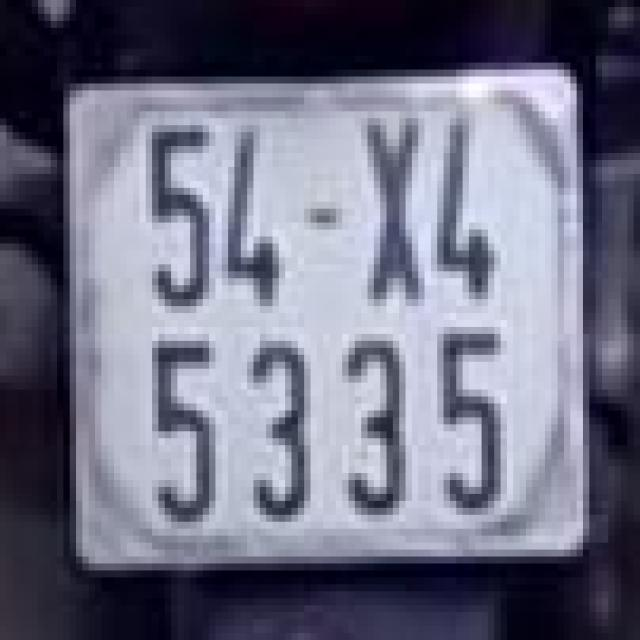3: (232, 324, 326, 532), (345, 331, 415, 532)
4: (431, 101, 507, 316), (219, 122, 301, 310)
5: (428, 324, 529, 532), (140, 115, 228, 316), (139, 330, 222, 526)
X: (352, 104, 428, 320)
